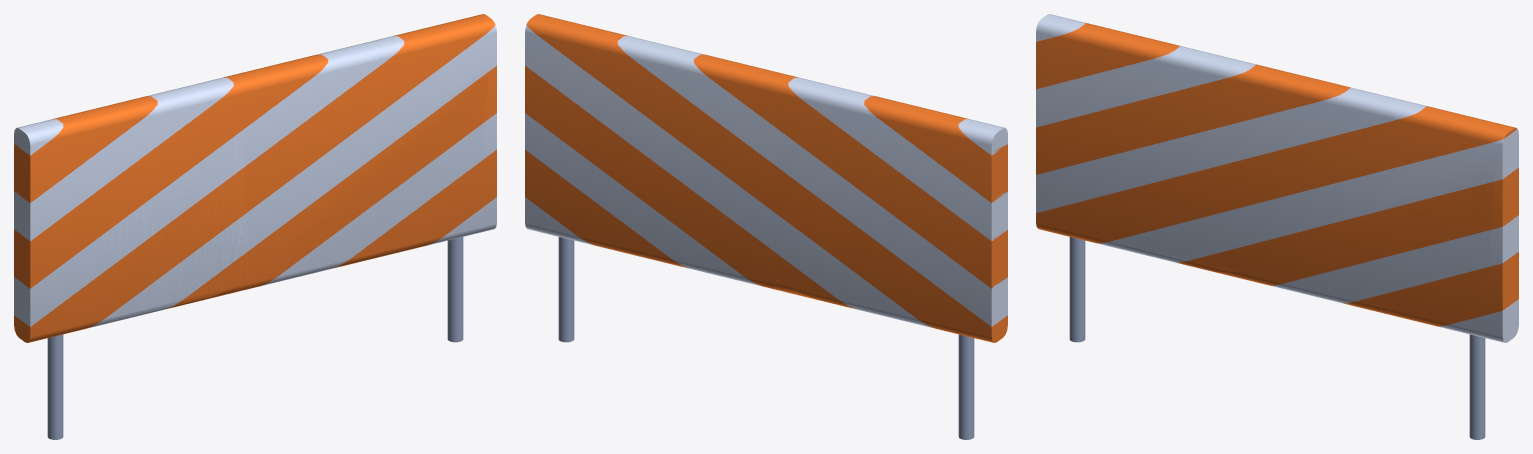
Rendered from barrierExplosion.fbx.
3 views of the same model, side by side, from view 1: azimuth 30°, elevation 25°; view 2: azimuth 150°, elevation 25°; view 3: azimuth 330°, elevation 25° (orthographic).
Visible parts, largest first — view 1: Cylinder, Cylinder_cell.006, Cylinder_cell.007, Cylinder_cell.002; view 2: Cylinder, Cylinder_cell.007, Cylinder_cell.006; view 3: Cylinder, Cylinder_cell.006, Cylinder_cell.007, Cylinder_cell.002.
Part boxes in pixels (x1=…): Cylinder: x1=14, y1=14, x2=496, y2=439; Cylinder_cell.006: x1=244, y1=28, x2=490, y2=289; Cylinder_cell.007: x1=14, y1=75, x2=245, y2=342; Cylinder_cell.002: x1=477, y1=15, x2=496, y2=233; Cylinder: x1=525, y1=14, x2=1007, y2=439; Cylinder_cell.007: x1=776, y1=75, x2=1007, y2=342; Cylinder_cell.006: x1=528, y1=26, x2=778, y2=289; Cylinder: x1=1036, y1=14, x2=1518, y2=439; Cylinder_cell.006: x1=1251, y1=77, x2=1499, y2=338; Cylinder_cell.007: x1=1036, y1=14, x2=1261, y2=272; Cylinder_cell.002: x1=1485, y1=127, x2=1515, y2=341.
Size of the model in its own units: 140 by 90 by 8.4.
